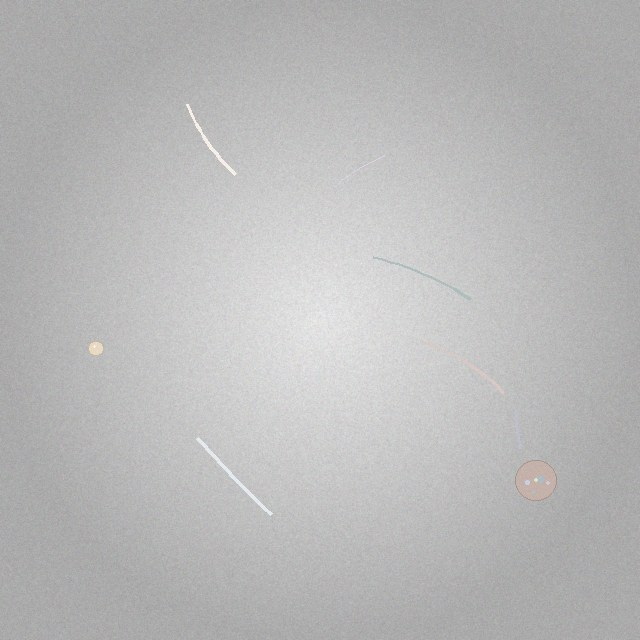fiber: (194, 434, 275, 518), (417, 338, 507, 397), (370, 253, 474, 303), (184, 102, 239, 178), (337, 153, 386, 185), (513, 406, 524, 452)
foam: (516, 460, 556, 501)
pellet: (89, 341, 103, 355)
